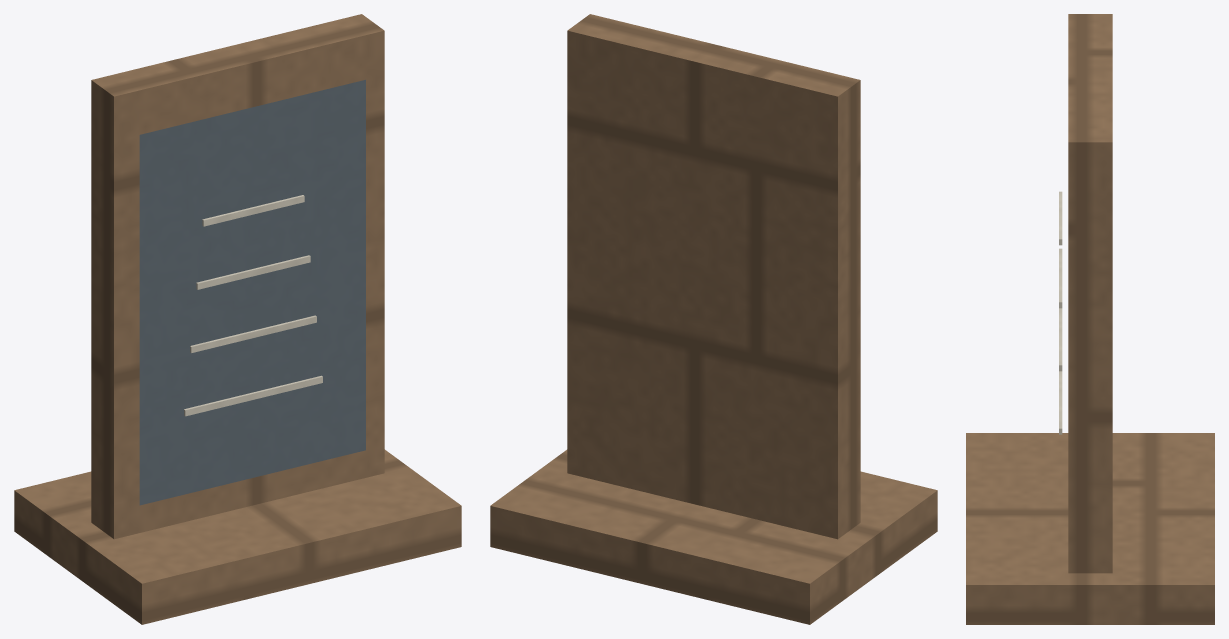
File: q01-menu.glb
The picture shows the model from 3 angles, left to right: view 1: azimuth 30°, elevation 25°; view 2: azimuth 150°, elevation 25°; view 3: azimuth 270°, elevation 25°; orthographic projection. The views are drawn at different scales.
Size of the model in its own units: 0.65 by 0.94 by 0.45.
Materials: 3 (3 with a texture image).
